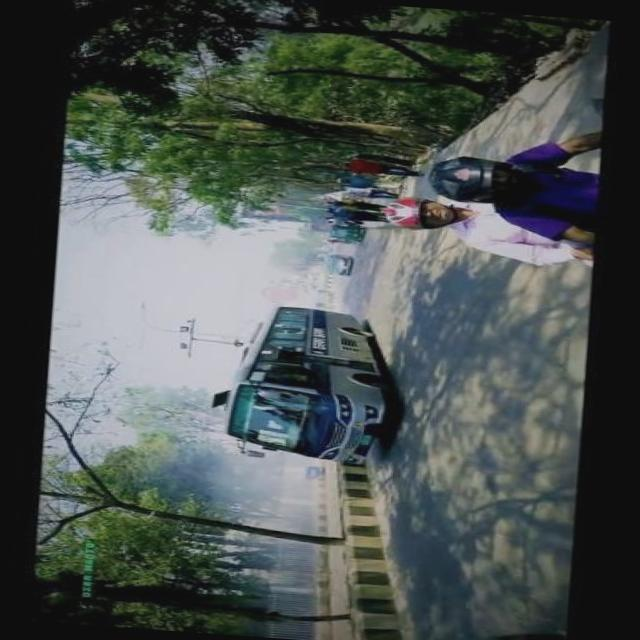bus: (220, 302, 388, 470)
car: (321, 253, 350, 277)
motorcycle: (322, 225, 360, 242)
